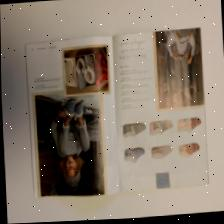paper: (23, 23, 208, 208)
